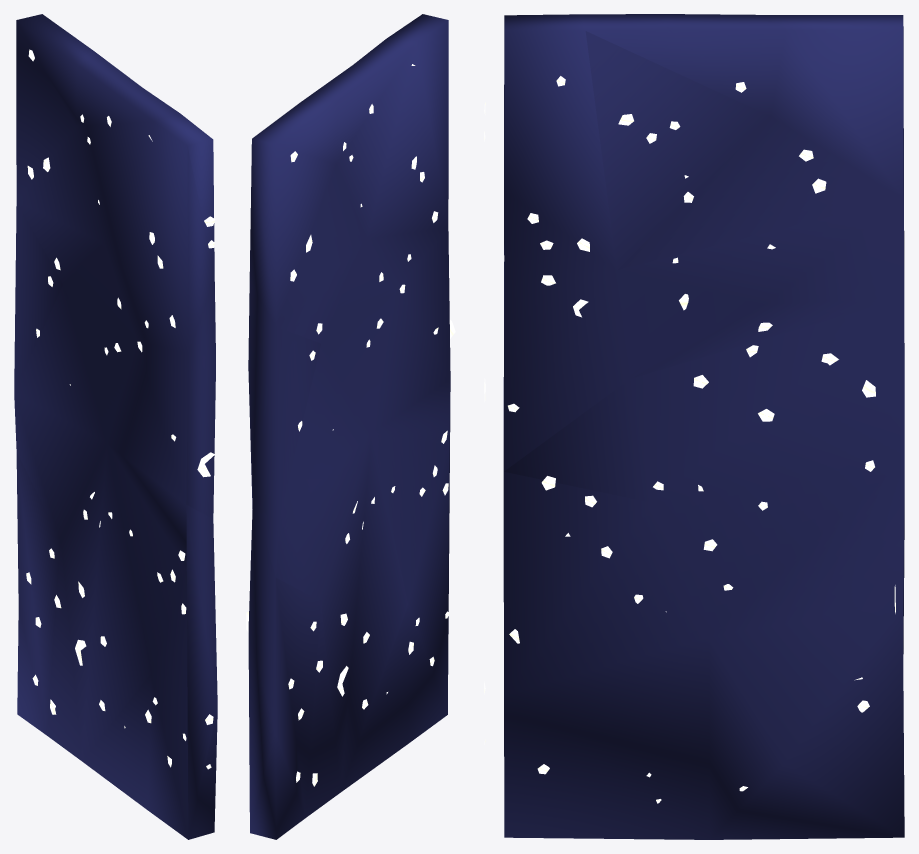
Rendered from den_night_panel_lod2.glb.
3 renders of one model, left to right at view 1: azimuth 30°, elevation 25°; view 2: azimuth 150°, elevation 25°; view 3: azimuth 270°, elevation 25°, orthographic. The views are drawn at different scales.
Visible parts, largest first — view 1: den_night_panel.001; view 2: den_night_panel.001; view 3: den_night_panel.001.
Part boxes in pixels (x1,y1,x2,y2): den_night_panel.001: (14,14,217,839); den_night_panel.001: (246,14,455,839); den_night_panel.001: (484,14,904,839).
Bounding box in the file's own units: 1.94 × 34.92 × 16.45.
